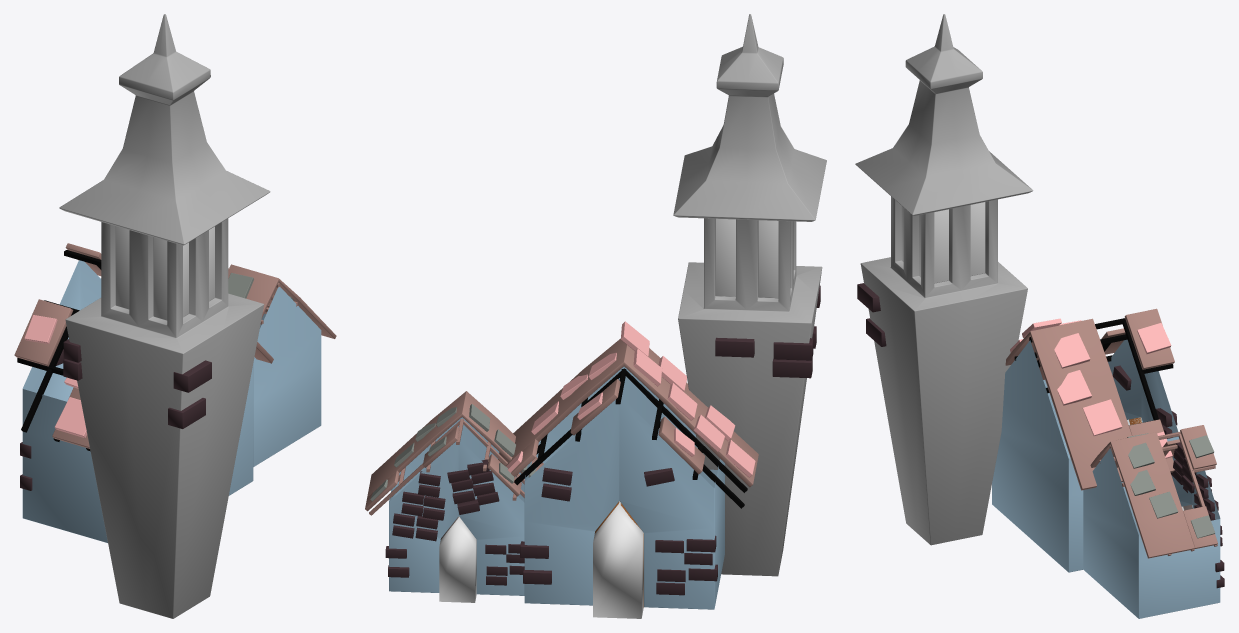
File: SnowHouse.fbx
3 views of the same model, side by side, from view 1: azimuth 30°, elevation 25°; view 2: azimuth 150°, elevation 25°; view 3: azimuth 270°, elevation 25° (orthographic). The views are drawn at different scales.
Visible parts, largest first — view 1: Plane.003, Plane, Plane.017, Plane.051, Plane.006, Plane.019, Plane.002, Plane.011, Cube.003, Cube.004, Plane.010, Plane.023; view 2: Plane.003, Plane, Plane.017, Plane.006, Plane.001, Plane.019, Plane.051, Plane.020, Plane.002, Plane.018, Cube.002, Cube (+1 smaller); view 3: Plane.003, Plane, Plane.017, Plane.006, Plane.019, Plane.051, Plane.002, Plane.014, Plane.012, Plane.013, Plane.015, Plane.018 (+1 smaller).
Boxes of the visible parts, x1,y1,x2,y2 form: Plane.003: (59, 14, 270, 618); Plane: (22, 260, 253, 542); Plane.017: (253, 287, 321, 466); Plane.051: (115, 226, 214, 320); Plane.006: (14, 243, 273, 448); Plane.019: (228, 264, 336, 338); Plane.002: (17, 250, 101, 451); Plane.011: (54, 397, 87, 437); Cube.003: (173, 360, 211, 392); Cube.004: (168, 398, 205, 428); Plane.010: (24, 315, 57, 344); Plane.023: (228, 272, 253, 298); Plane.003: (673, 14, 826, 576); Plane: (524, 366, 724, 609); Plane.017: (389, 417, 524, 595); Plane.006: (498, 339, 758, 487); Plane.001: (593, 501, 643, 618); Plane.019: (365, 391, 543, 511); Plane.051: (715, 218, 778, 298); Plane.020: (439, 516, 476, 602); Plane.002: (514, 368, 747, 508); Plane.018: (369, 418, 524, 515); Cube.002: (715, 337, 754, 357); Cube: (773, 338, 813, 360); Plane.003: (855, 14, 1033, 545); Plane: (992, 339, 1179, 572); Plane.017: (1083, 448, 1220, 618); Plane.006: (1005, 308, 1174, 490); Plane.019: (1090, 425, 1217, 558); Plane.051: (901, 202, 985, 283); Plane.002: (1014, 318, 1173, 473); Plane.014: (1082, 399, 1122, 435); Plane.012: (1054, 333, 1090, 368); Plane.013: (1057, 370, 1091, 405); Plane.015: (1137, 323, 1171, 354); Plane.018: (1099, 432, 1217, 555).
Bounding box in the file's own units: 3758 × 5599 × 3638.
